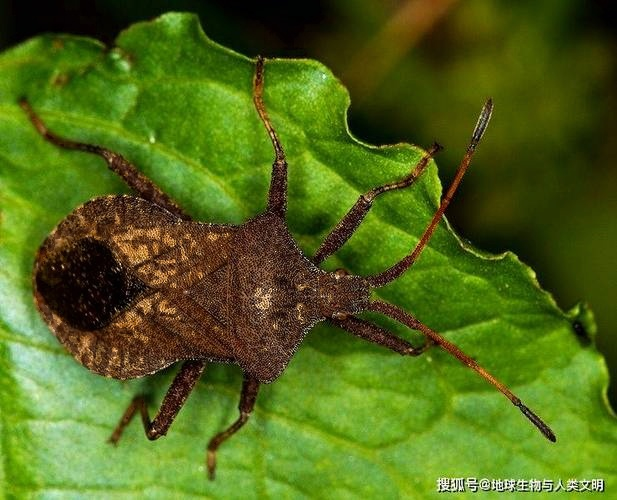Stink_Bug: (53, 197, 411, 373)
